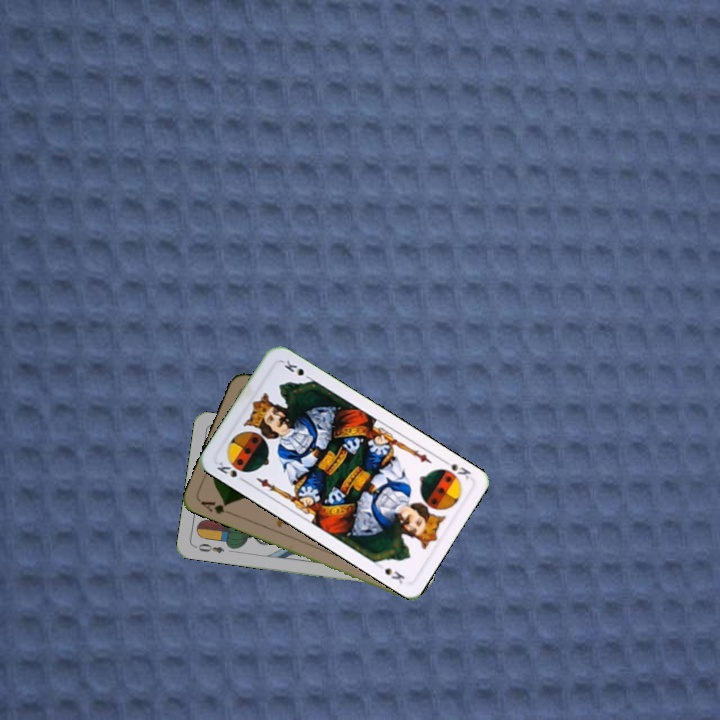EO: (191, 539, 227, 556)
GA: (197, 497, 236, 517)
SK: (213, 455, 249, 485), (438, 457, 474, 482)
